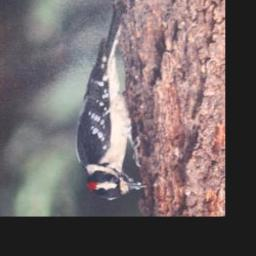Woodpecker: (73, 4, 148, 204)
